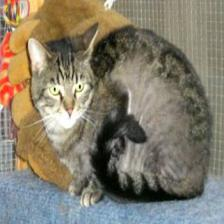cat: (28, 32, 100, 130)
